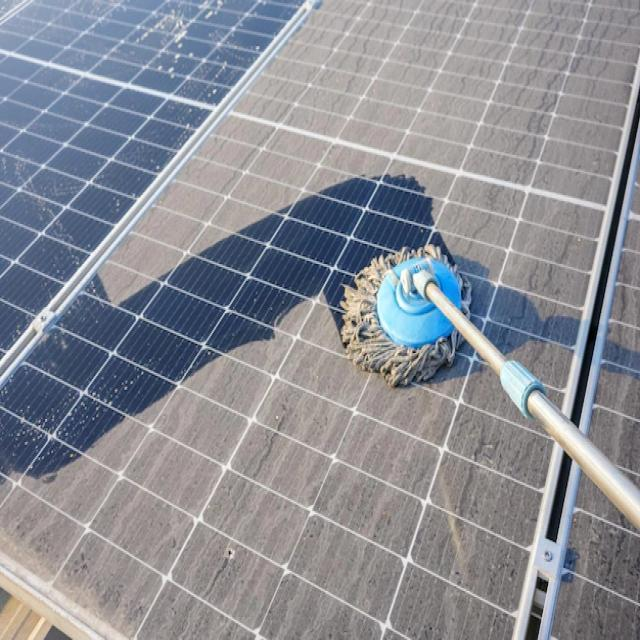Anomaly Solar Panel: (0, 0, 640, 637), (541, 125, 638, 640)
Surface Contaminant: (0, 0, 639, 639), (587, 137, 638, 478), (117, 0, 275, 105), (546, 471, 640, 640)
